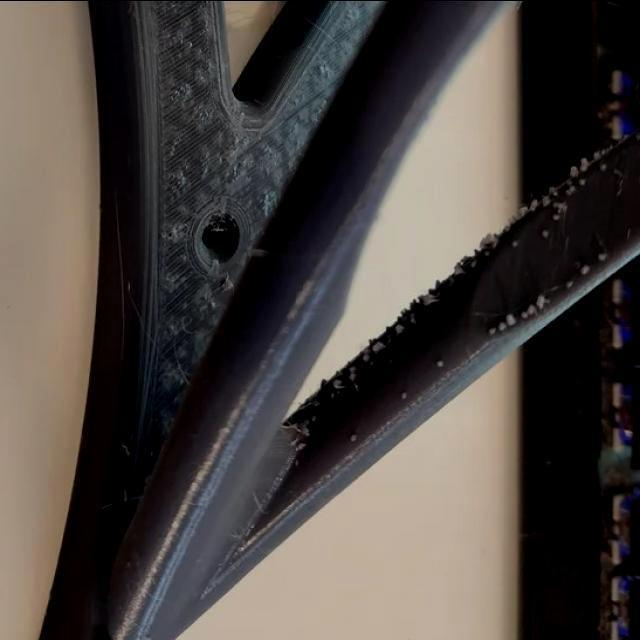zits: (394, 384, 418, 403), (532, 294, 552, 311), (568, 158, 582, 182), (576, 260, 592, 280), (392, 318, 408, 338), (370, 338, 388, 354), (421, 290, 437, 308), (345, 364, 363, 380), (520, 302, 534, 322), (526, 194, 540, 214), (537, 223, 554, 238), (347, 431, 362, 447), (434, 353, 448, 370), (505, 310, 519, 326), (484, 323, 499, 337), (594, 247, 610, 260), (328, 378, 343, 390), (579, 172, 591, 186), (358, 352, 374, 362), (512, 234, 520, 250), (568, 278, 578, 290), (497, 318, 505, 331)
